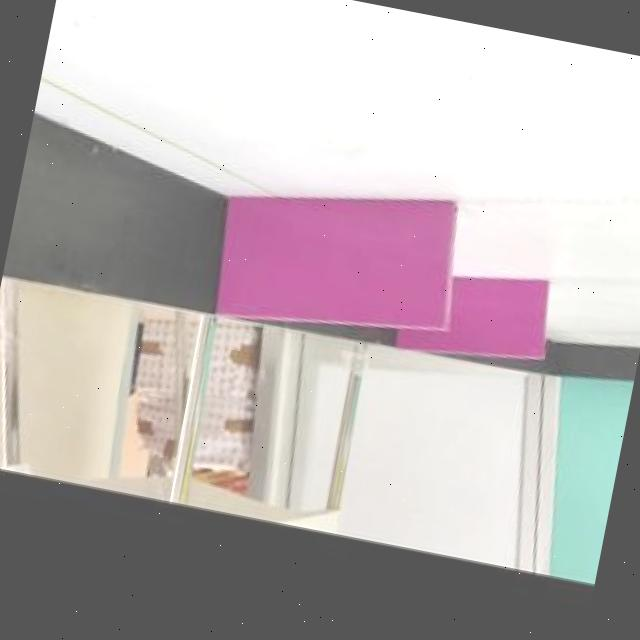xparking: (217, 197, 456, 330), (448, 278, 546, 358)
